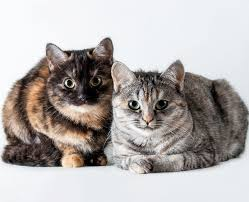Gato: (111, 56, 198, 141), (39, 33, 118, 112)
